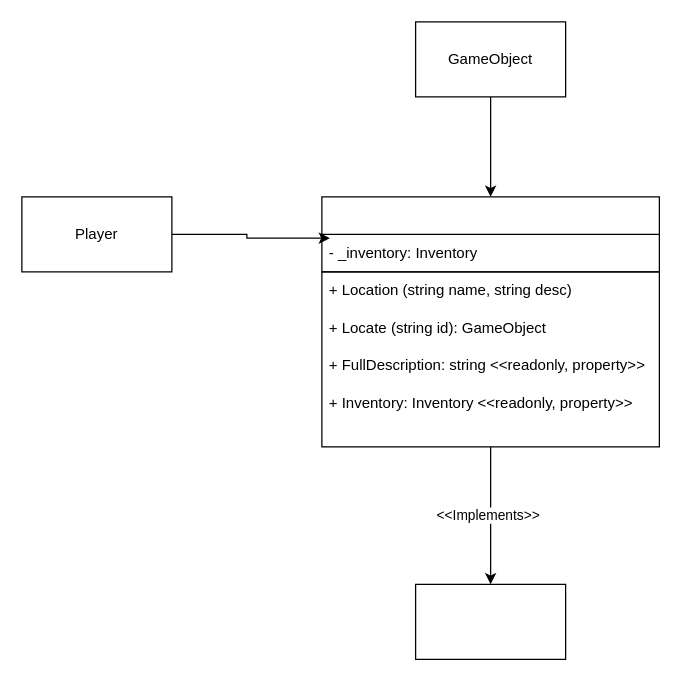
The diagram is 681 pixels wide and 681 high, and some of its shapes have lost their labels. Here are the shapes that lost their labels. From the top down, the box of each, then its label:
(321, 196, 659, 272): Location
(414, 583, 566, 659): <<interface>> IHaveInventory
